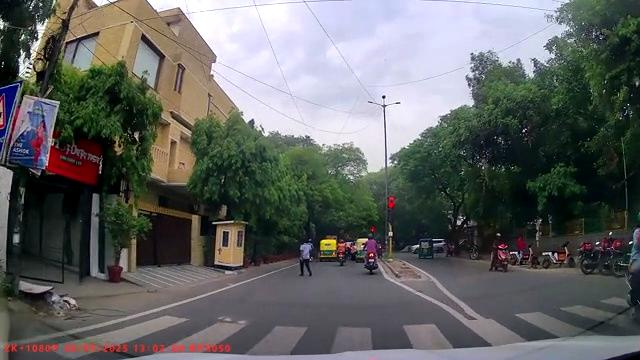motorcycle_with_helmet: (362, 234, 380, 275)
